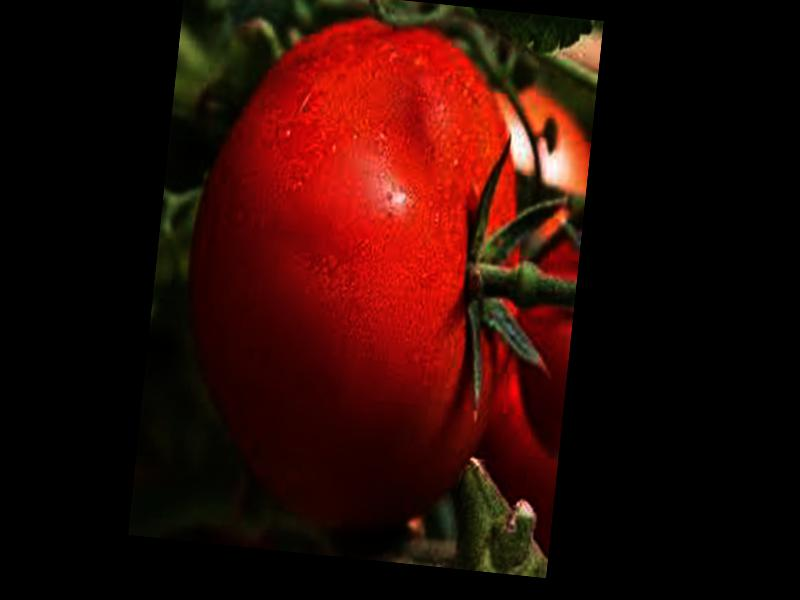Tomato: (168, 3, 543, 542)
